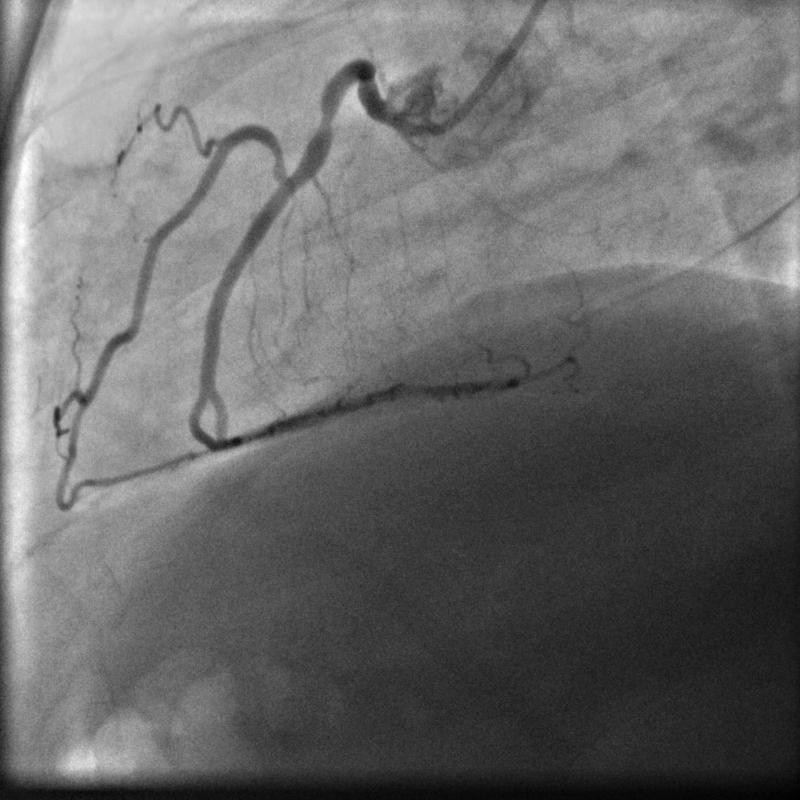Stenosis: (313, 103, 335, 135)
